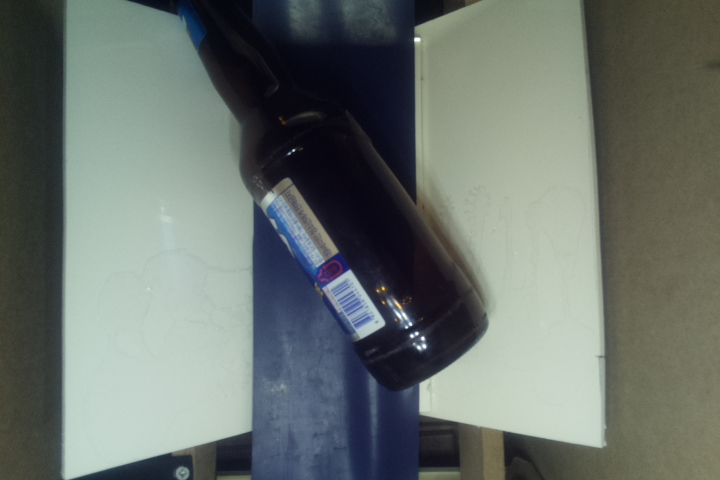makju: (170, 1, 491, 393)
